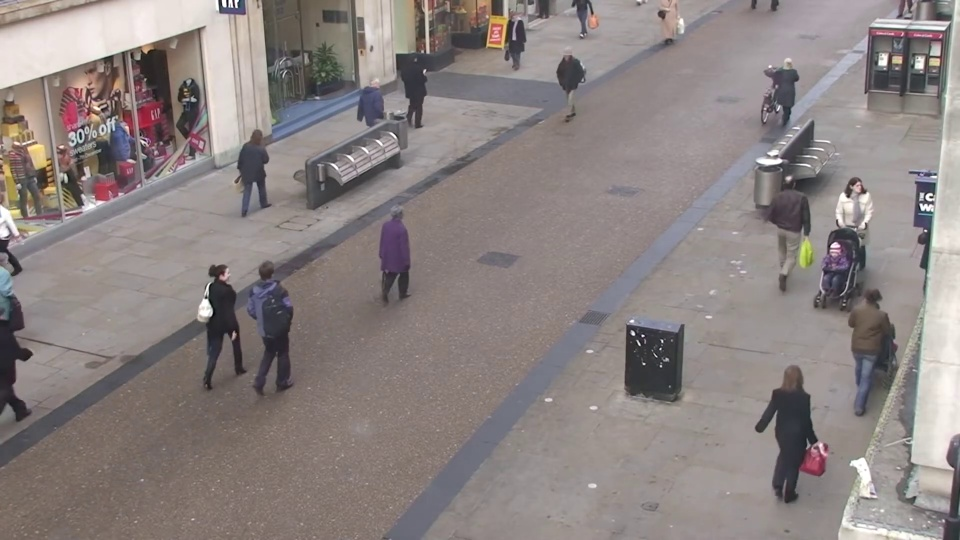pedestrian: (768, 352, 826, 510), (843, 274, 898, 413), (210, 249, 261, 378), (803, 237, 852, 366), (252, 248, 301, 377), (826, 173, 871, 285), (387, 194, 427, 311), (773, 162, 813, 270), (247, 121, 283, 217), (365, 73, 395, 156), (772, 50, 803, 130), (404, 47, 431, 123), (552, 49, 578, 126), (502, 10, 525, 76)
